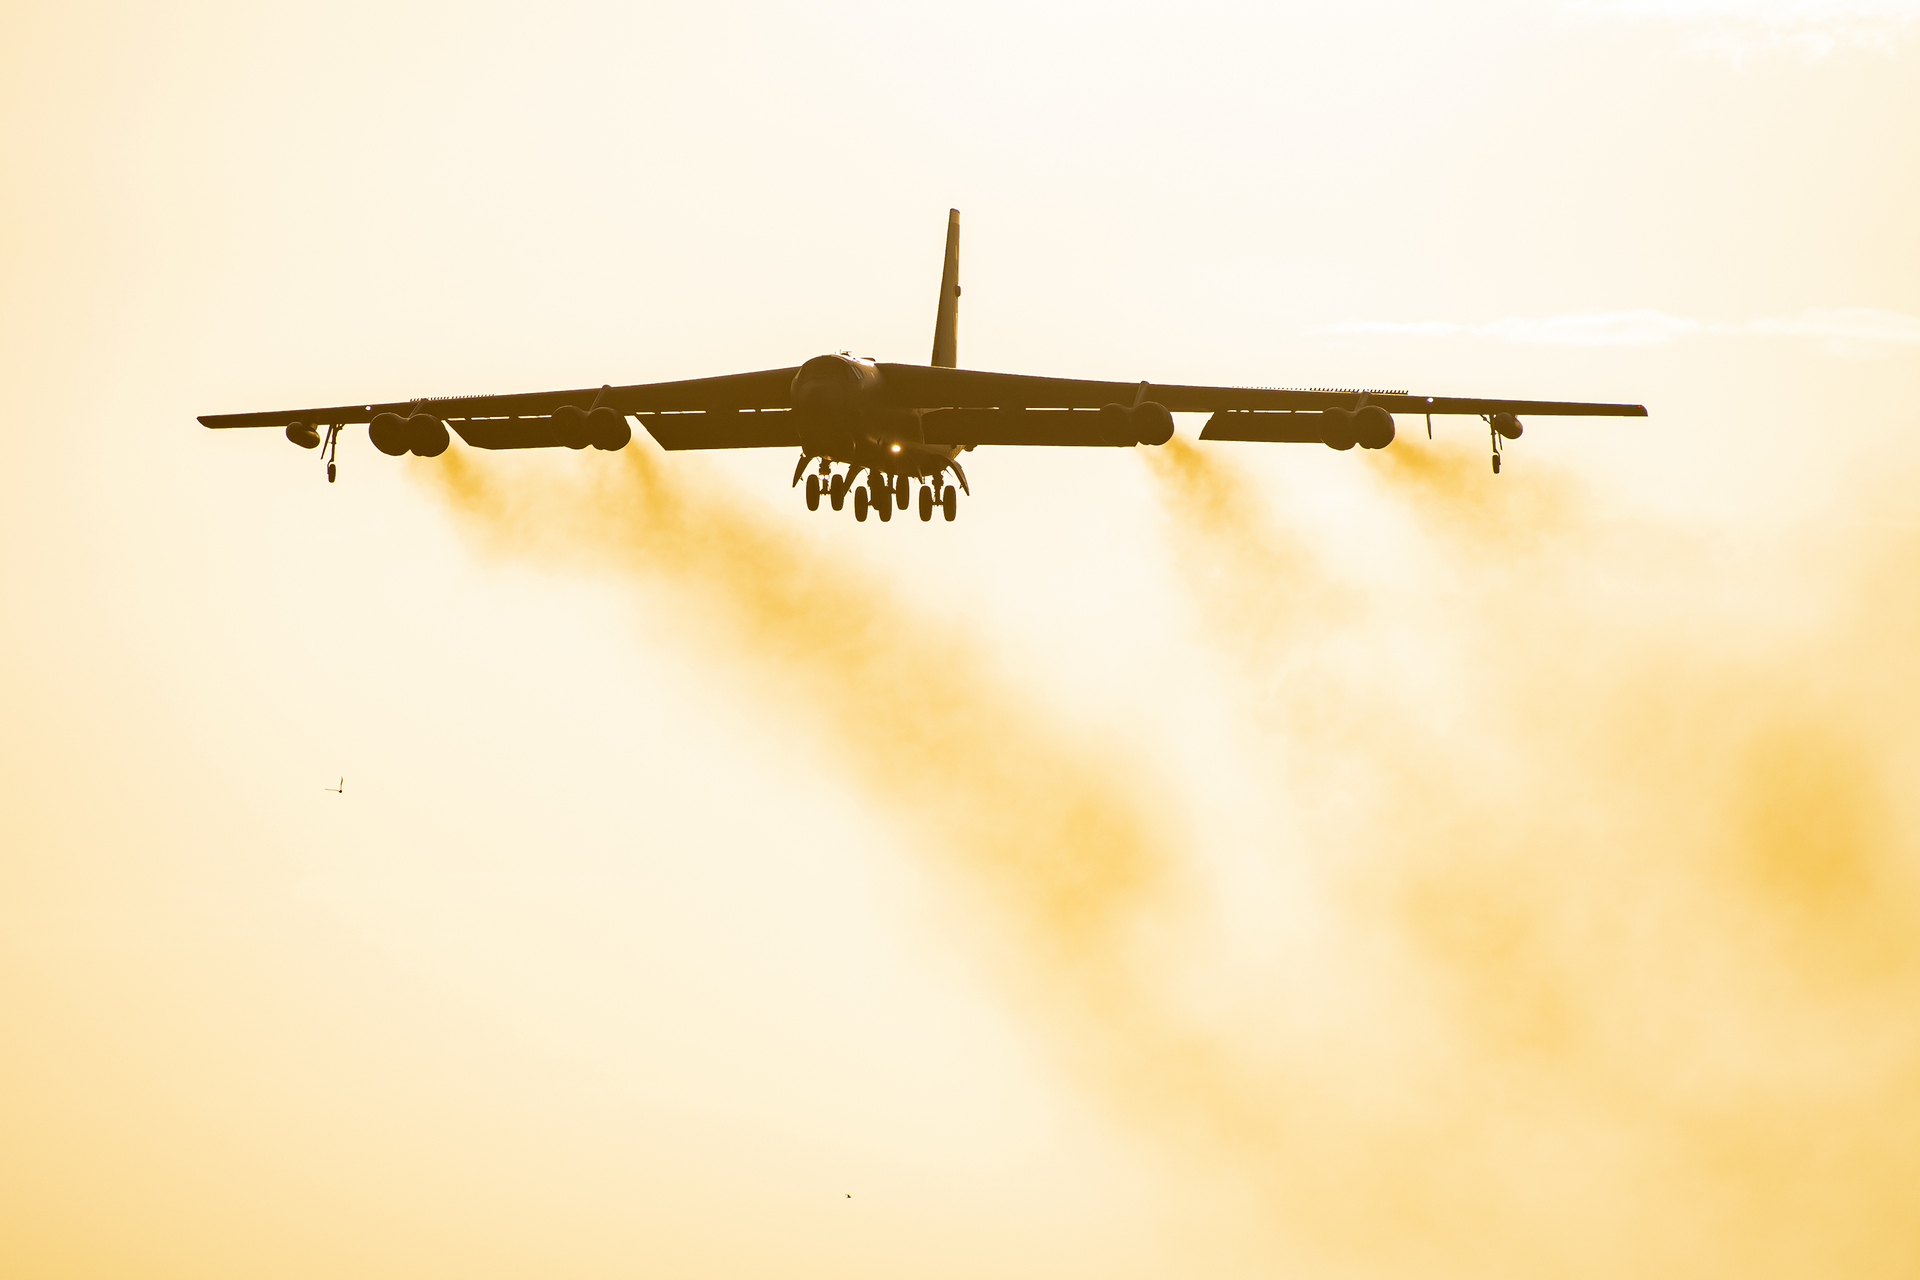B52: (194, 207, 1649, 521)
